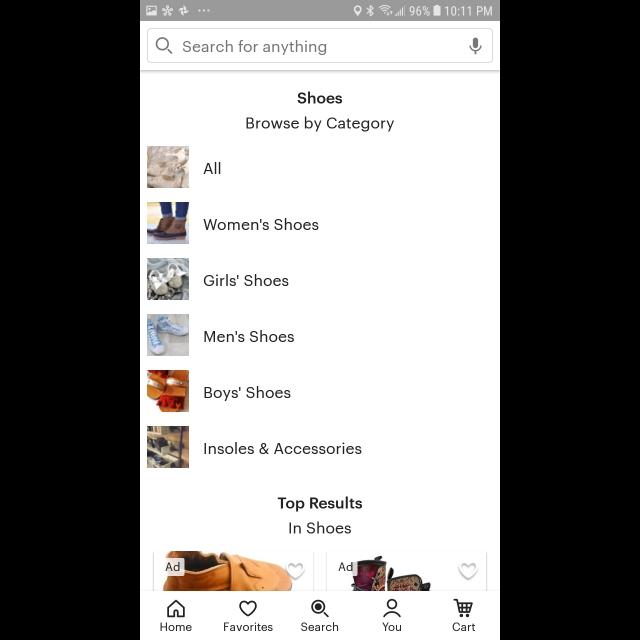icon: (453, 598, 473, 618), (383, 598, 401, 618), (167, 599, 185, 617), (311, 600, 329, 618), (286, 562, 306, 578), (458, 562, 478, 578), (239, 600, 257, 616), (156, 37, 172, 54), (470, 37, 482, 54)
image: (154, 551, 314, 591), (328, 551, 487, 591), (147, 426, 189, 468), (147, 370, 189, 412), (147, 314, 189, 356), (147, 258, 189, 300), (147, 202, 189, 244), (147, 146, 189, 188)
input: (147, 28, 493, 64)
text: (246, 116, 394, 132), (184, 40, 326, 56), (205, 442, 362, 454), (205, 386, 291, 402), (204, 218, 318, 230), (278, 496, 362, 512), (205, 330, 295, 342), (204, 274, 288, 286), (289, 522, 351, 534), (298, 92, 342, 105), (224, 622, 272, 632), (301, 621, 339, 631), (160, 622, 192, 632), (452, 622, 476, 632), (203, 162, 220, 174), (382, 622, 402, 632), (338, 562, 352, 572), (166, 562, 180, 572)
uppertaskbar: (140, 1, 500, 22)
